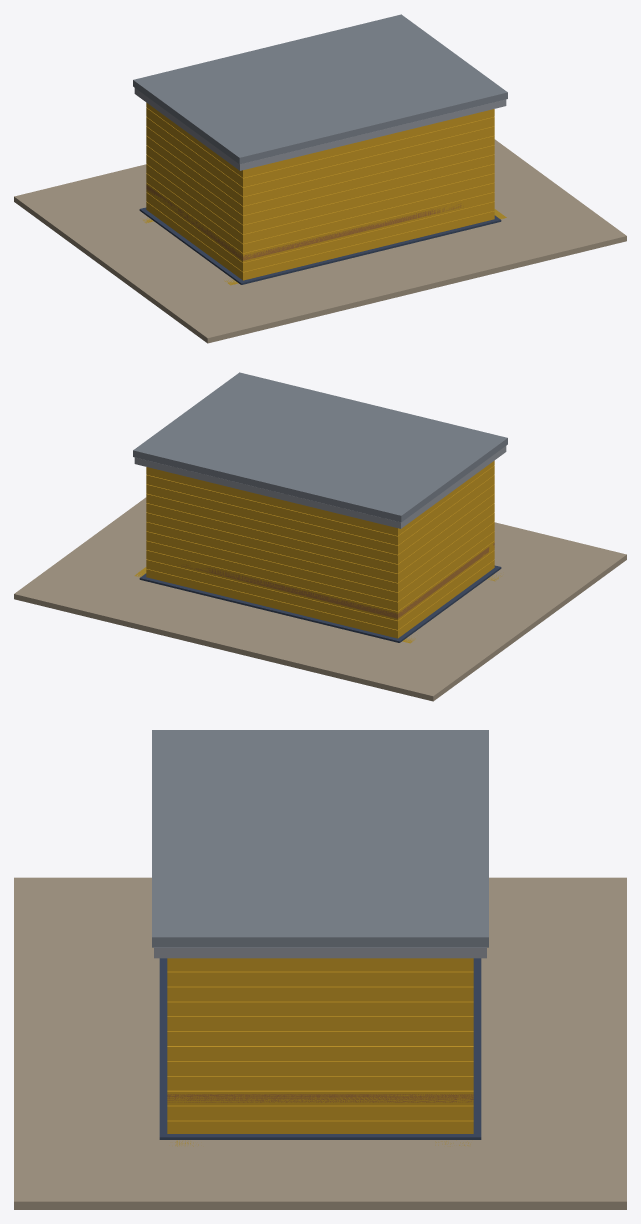
File: stage_05_bands.glb
3 renders of one model, top to bottom at view 1: azimuth 30°, elevation 25°; view 2: azimuth 150°, elevation 25°; view 3: azimuth 270°, elevation 25°, orthographic. The views are drawn at different scales.
Visible parts, largest first — view 1: world; view 2: world; view 3: world.
Part boxes in pixels (left/top/right/bottom): world: left=14, top=14, right=626, bottom=343; world: left=14, top=372, right=626, bottom=701; world: left=14, top=730, right=626, bottom=1209.
Size of the model in its own units: 10 by 3.76 by 8.
